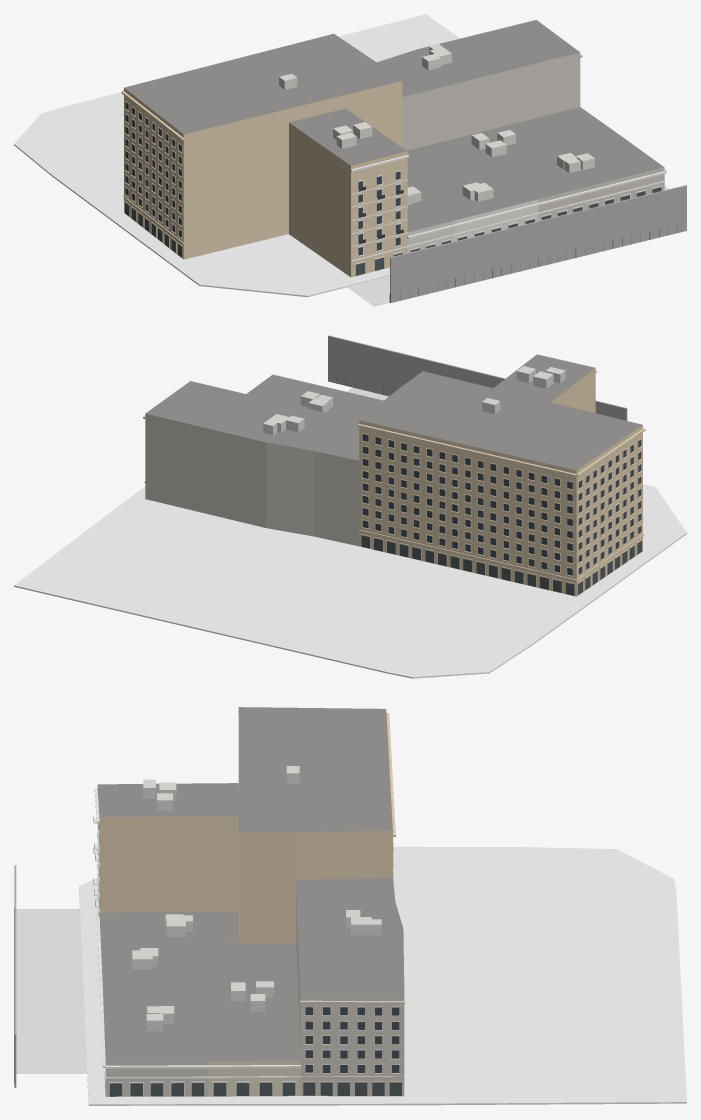
Rendered from chunk_02_00.glb.
3 views of the same model, one above another, from view 1: azimuth 30°, elevation 25°; view 2: azimuth 150°, elevation 25°; view 3: azimuth 270°, elevation 25° (orthographic). The views are drawn at different scales.
Visible parts, largest first — view 1: chunk_02_00_LOD0, chunk_02_00_COL; view 2: chunk_02_00_LOD0, chunk_02_00_COL; view 3: chunk_02_00_LOD0, chunk_02_00_COL.
Part boxes in pixels (x1,y1,x2,y2): chunk_02_00_LOD0: (14, 14, 677, 306); chunk_02_00_COL: (390, 185, 686, 302); chunk_02_00_LOD0: (14, 354, 686, 678); chunk_02_00_COL: (328, 335, 627, 420); chunk_02_00_LOD0: (14, 707, 686, 1105); chunk_02_00_COL: (14, 865, 16, 1087).
Size of what is drawn, in the model's own units: 125 by 36.1 by 138.
